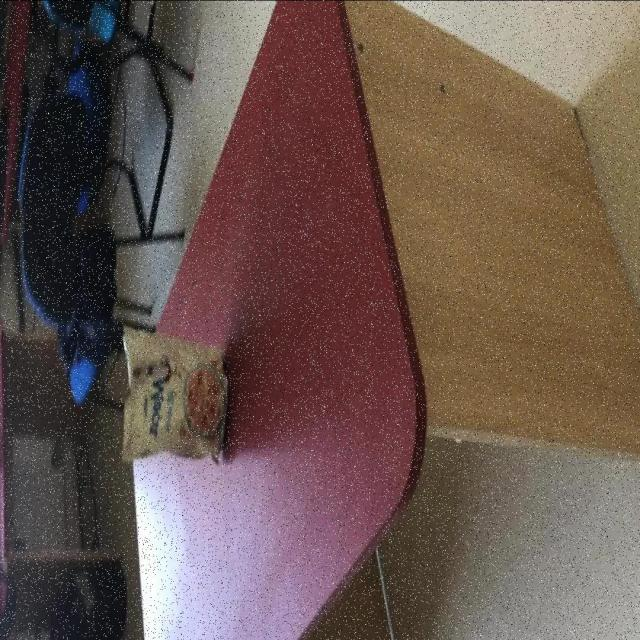CornFlakes: (120, 321, 228, 462), (181, 366, 223, 436)
